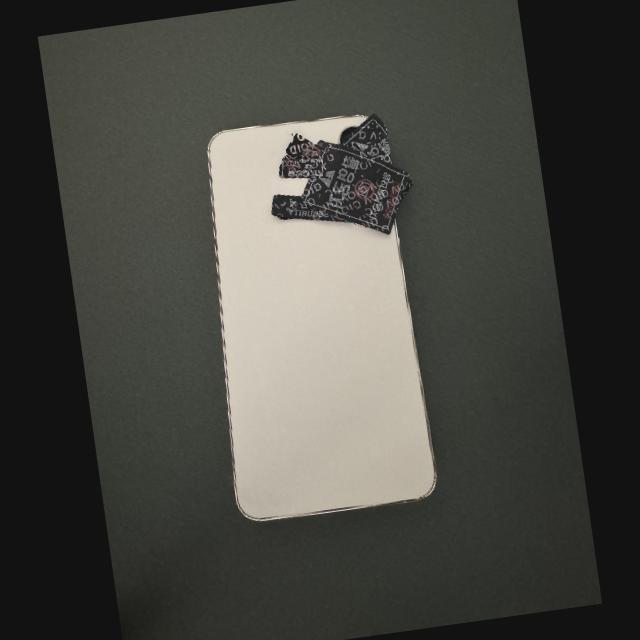phone: (208, 115, 438, 521)
sticker: (300, 142, 409, 236), (338, 112, 395, 166), (271, 194, 355, 223), (278, 152, 327, 178), (286, 132, 322, 156), (403, 178, 413, 199)
